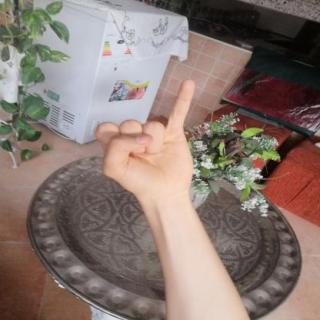MEEM: (86, 73, 203, 209)
